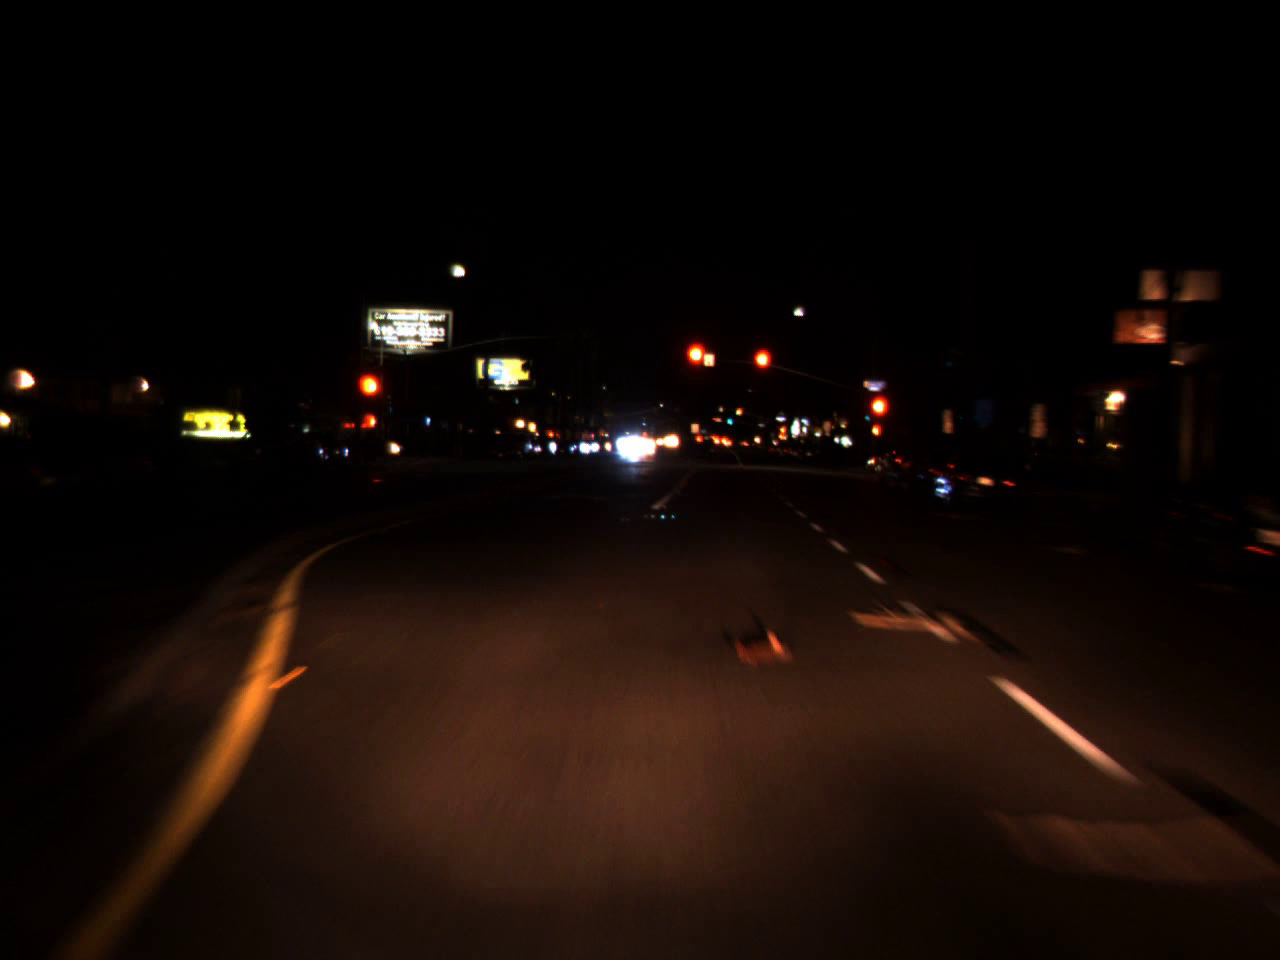go: (726, 414, 733, 426)
stop: (355, 371, 385, 425), (683, 339, 710, 393), (867, 392, 891, 440), (751, 345, 773, 393)
